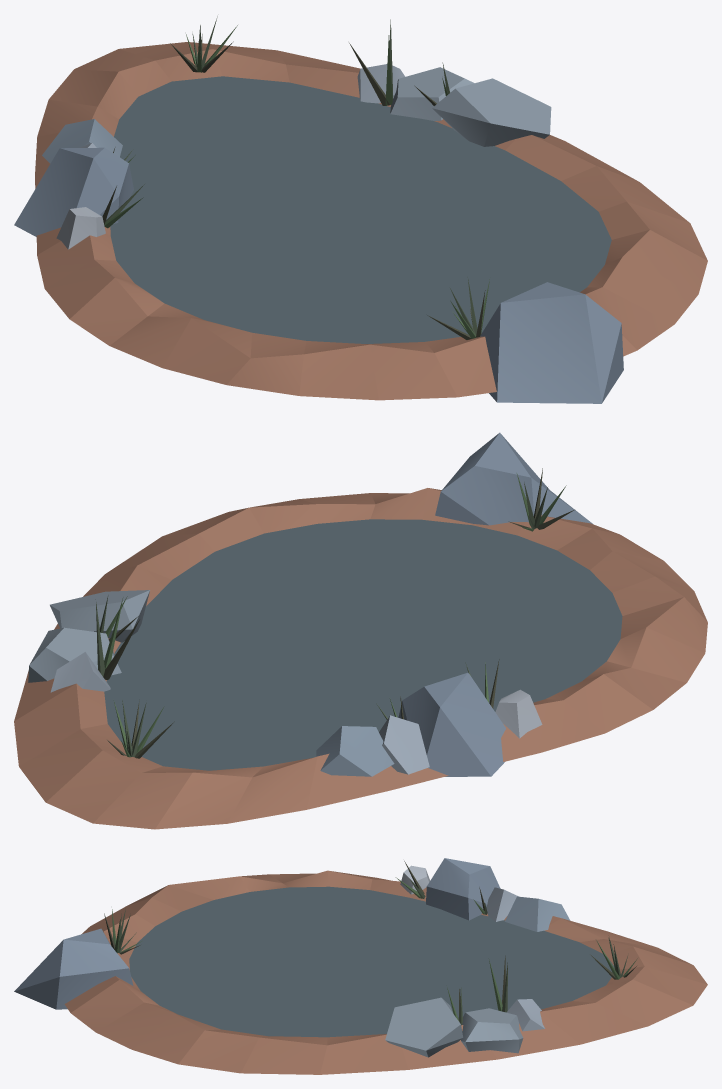
The model's file is Pond.fbx.
3 renders of one model, top to bottom at view 1: azimuth 30°, elevation 25°; view 2: azimuth 150°, elevation 25°; view 3: azimuth 270°, elevation 25°, orthographic. The views are drawn at different scales.
Parts seen in each view (by area): view 1: Pond; view 2: Pond; view 3: Pond.
Boxes of the visible parts, bbox=[...] form: Pond: bbox=[14, 16, 707, 403]; Pond: bbox=[14, 432, 707, 829]; Pond: bbox=[14, 858, 707, 1074].
Size of the model in its own units: 3.75 by 0.6625 by 5.45.
